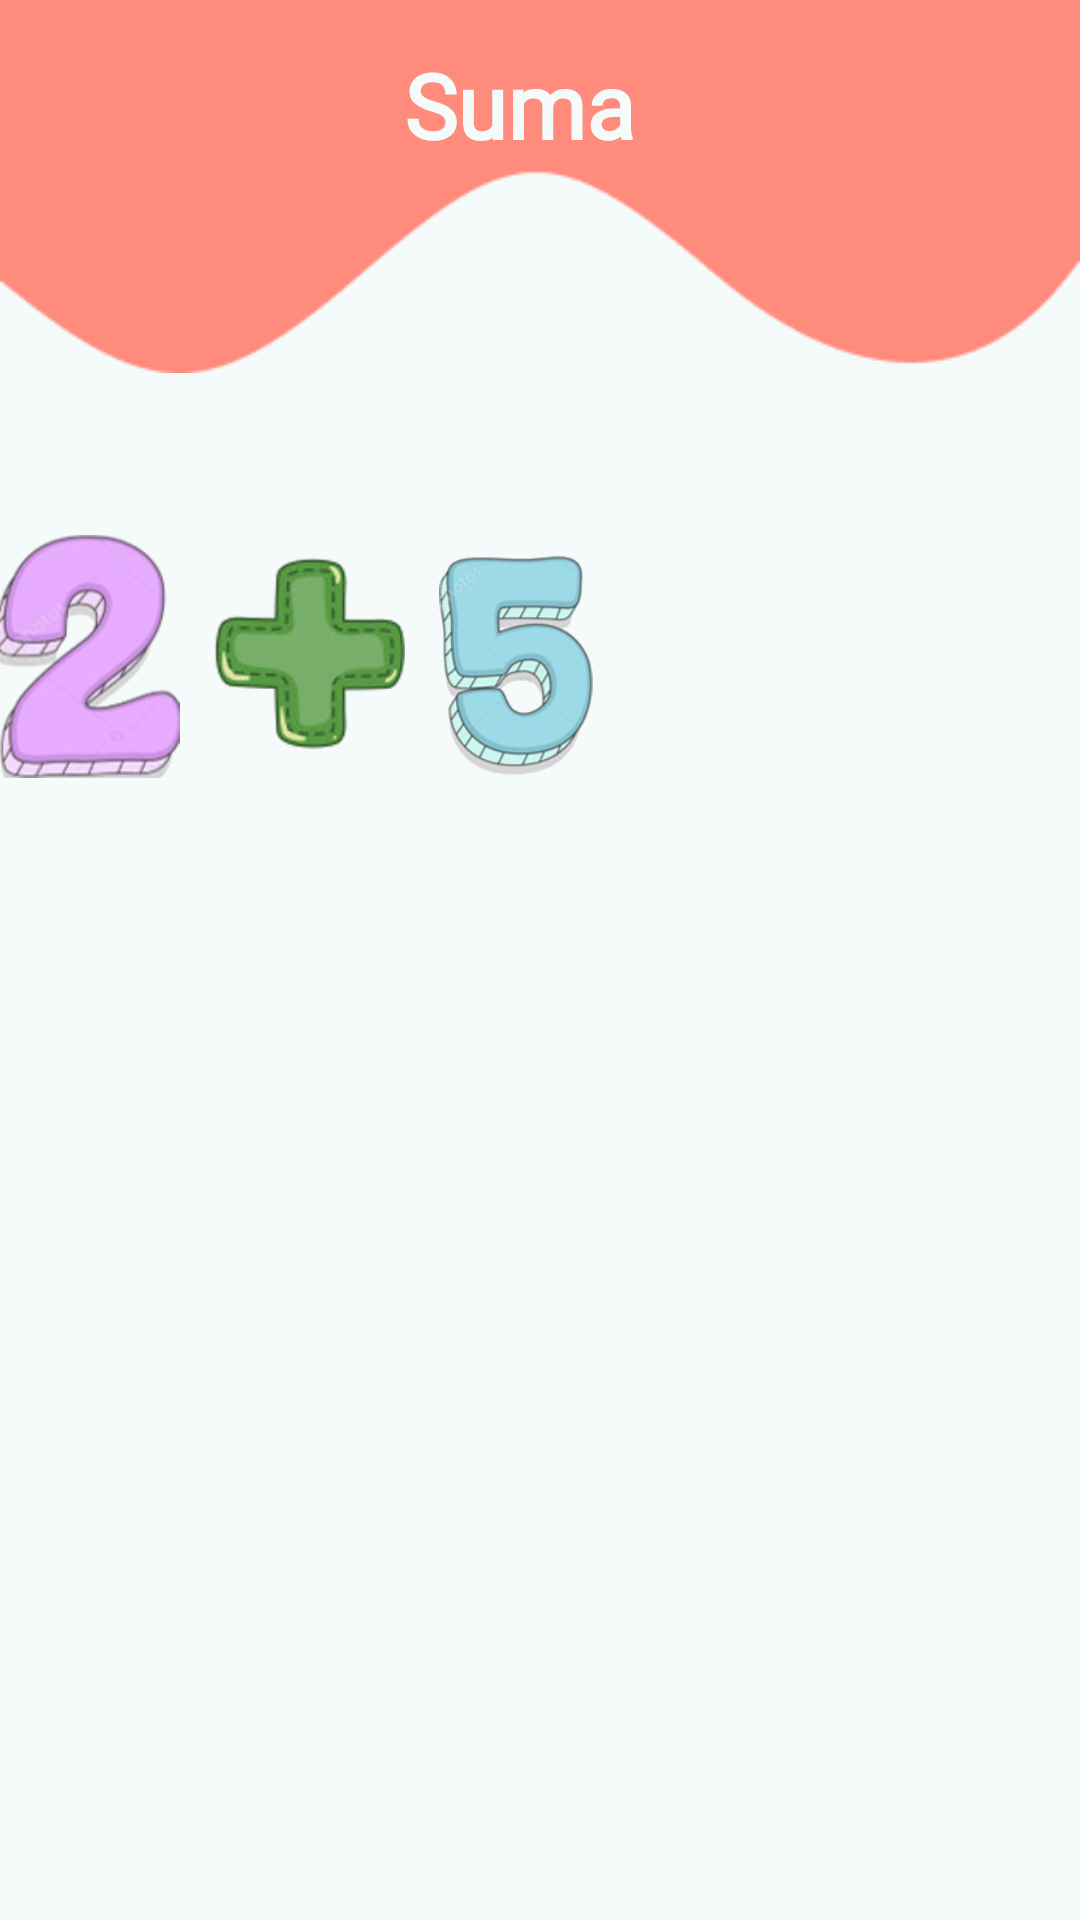

Icons on this 1080×1920 Android screen, each with the point to tap as [x,y]:
numero: [90,656], [516,665]
signo suma: [310,653]
